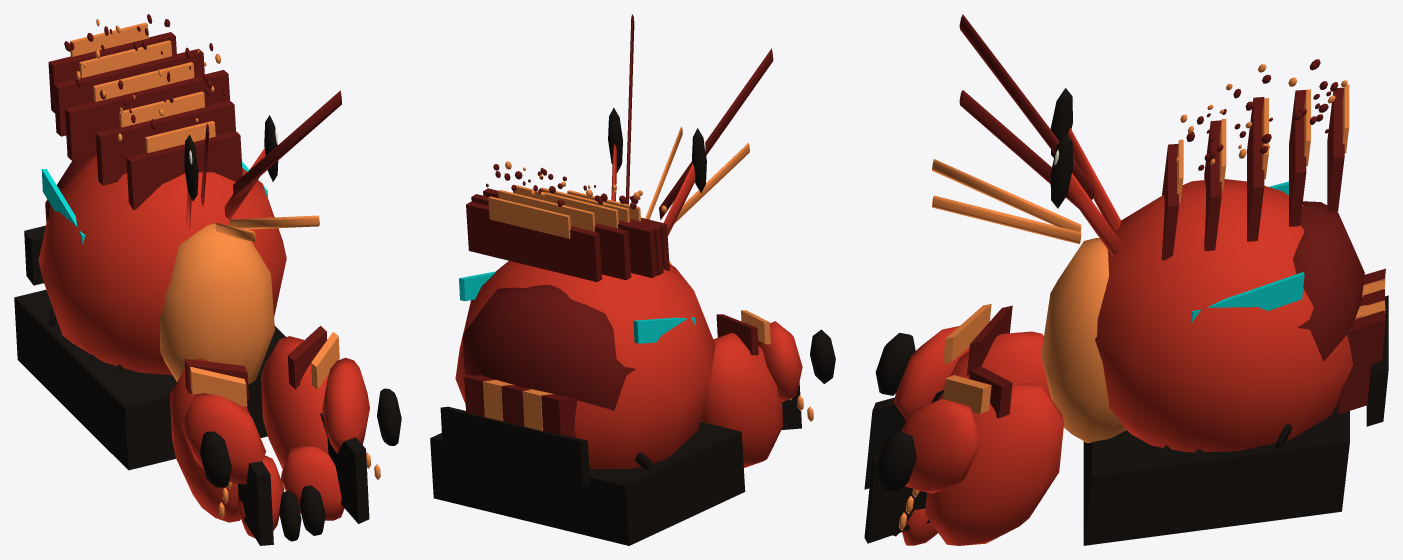
File: fallback_snap_back_v13_REAL_FRONT_CLAWS_LOCKED_SIZE.glb
3 views of the same model, side by side, from view 1: azimuth 30°, elevation 25°; view 2: azimuth 150°, elevation 25°; view 3: azimuth 270°, elevation 25° (orthographic). The views are drawn at different scales.
Parts seen in each view (by area): view 1: SnapBack_v13_REAL_FRONT_CLAWS_Handle; view 2: SnapBack_v13_REAL_FRONT_CLAWS_Handle; view 3: SnapBack_v13_REAL_FRONT_CLAWS_Handle.
Boxes of the visible parts, x1=… form: SnapBack_v13_REAL_FRONT_CLAWS_Handle: x1=14, y1=14, x2=401, y2=545; SnapBack_v13_REAL_FRONT_CLAWS_Handle: x1=430, y1=14, x2=835, y2=545; SnapBack_v13_REAL_FRONT_CLAWS_Handle: x1=864, y1=14, x2=1388, y2=545.
Size of the model in its own units: 0.00936 by 0.0173 by 0.0172.
1 material, 1 textured.
